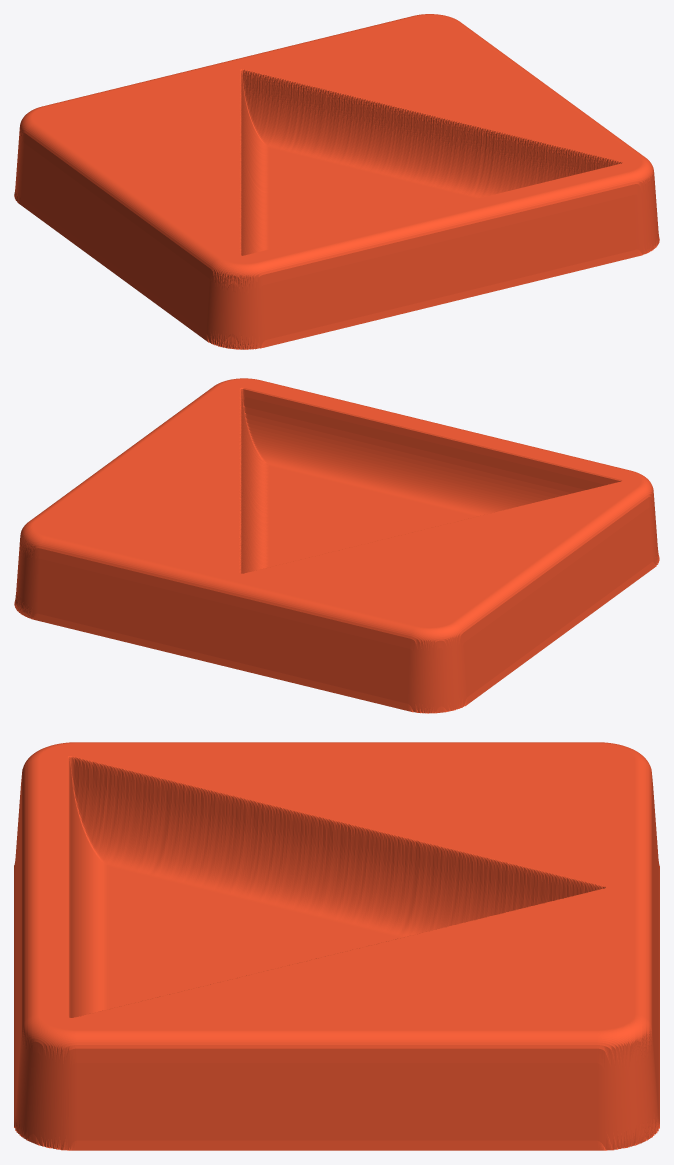
Rendered from mold.glb.
The picture shows the model from 3 angles, top to bottom: view 1: azimuth 30°, elevation 25°; view 2: azimuth 150°, elevation 25°; view 3: azimuth 270°, elevation 25°; orthographic projection. The views are drawn at different scales.
Visible parts, largest first — view 1: geometry_0; view 2: geometry_0; view 3: geometry_0.
Part boxes in pixels (box(x1,y1,x2,y2)): geometry_0: box(14, 14, 659, 349); geometry_0: box(14, 378, 659, 713); geometry_0: box(14, 742, 659, 1150).
Size of the model in its own units: 0.105 by 0.0175 by 0.0932.
